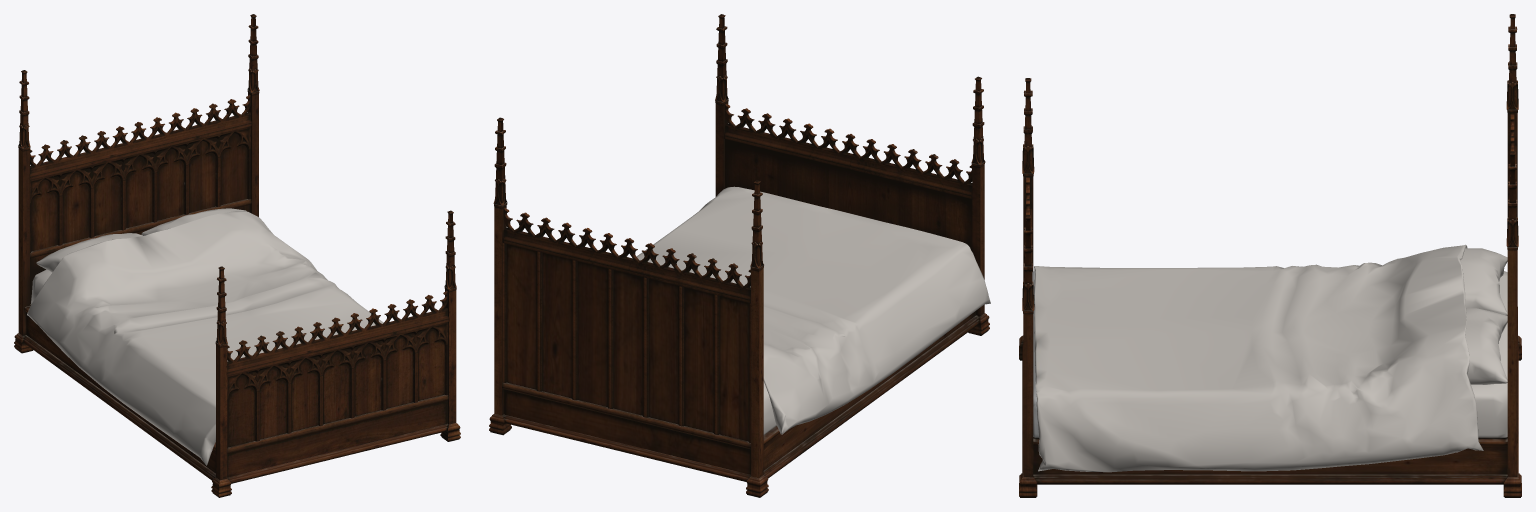
File: GothicBed_01_4k.dae
3 renders of one model, left to right at view 1: azimuth 30°, elevation 25°; view 2: azimuth 150°, elevation 25°; view 3: azimuth 270°, elevation 25°, orthographic. The views are drawn at different scales.
Parts seen in each view (by area): view 1: GothicBed_01; view 2: GothicBed_01; view 3: GothicBed_01.
Part boxes in pixels (x1,y1,x2,y2): GothicBed_01: (14, 14, 460, 497); GothicBed_01: (489, 14, 990, 497); GothicBed_01: (1019, 14, 1521, 497).
Bounding box in the file's own units: 1.49 × 2.04 × 1.53.
1 material, 1 textured.
